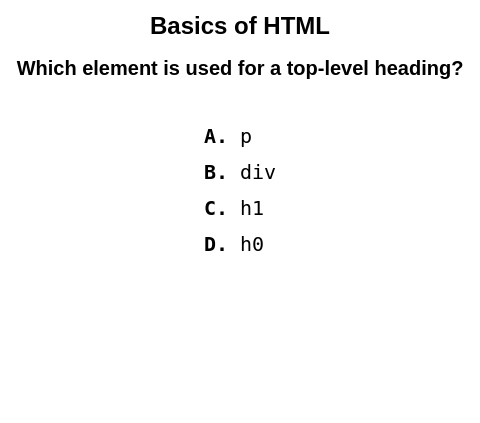
QuizScreen component within App › when the user selects an answer › should display 'Correct!' when correct answer selected
The width and height of the screenshot is (480, 423).
Click the list item "h1" at {"x": 252, "y": 208}, box [240, 196, 264, 220]
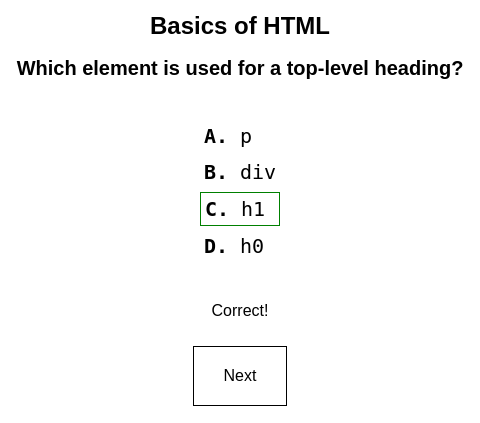
Now the text "Correct!" is shown, box [212, 302, 268, 319]
